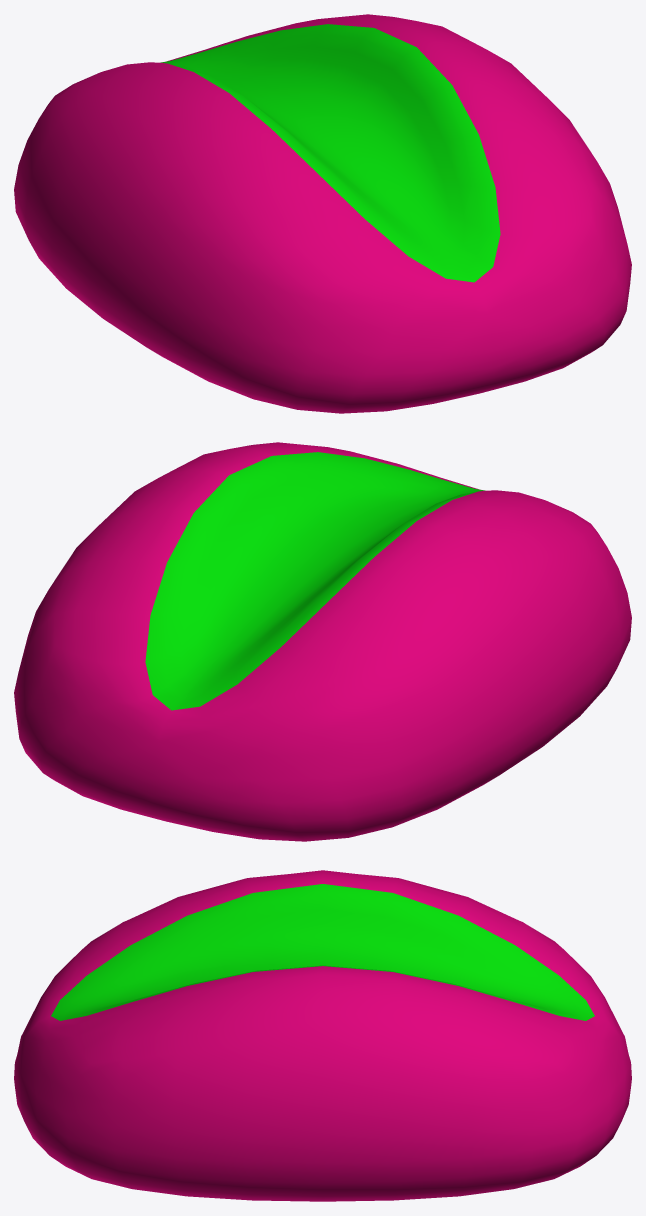
The model's file is böretchen_bread.fbx.
The picture shows the model from 3 angles, top to bottom: view 1: azimuth 30°, elevation 25°; view 2: azimuth 150°, elevation 25°; view 3: azimuth 270°, elevation 25°; orthographic projection. The views are drawn at different scales.
Parts seen in each view (by area): view 1: 1CutBread.001; view 2: 1CutBread.001; view 3: 1CutBread.001.
Boxes of the visible parts, x1,y1,x2,y2 form: 1CutBread.001: [14, 14, 631, 413]; 1CutBread.001: [14, 442, 631, 841]; 1CutBread.001: [14, 870, 631, 1201].
Size of the model in its own units: 18.42 by 8.47 by 23.55.
